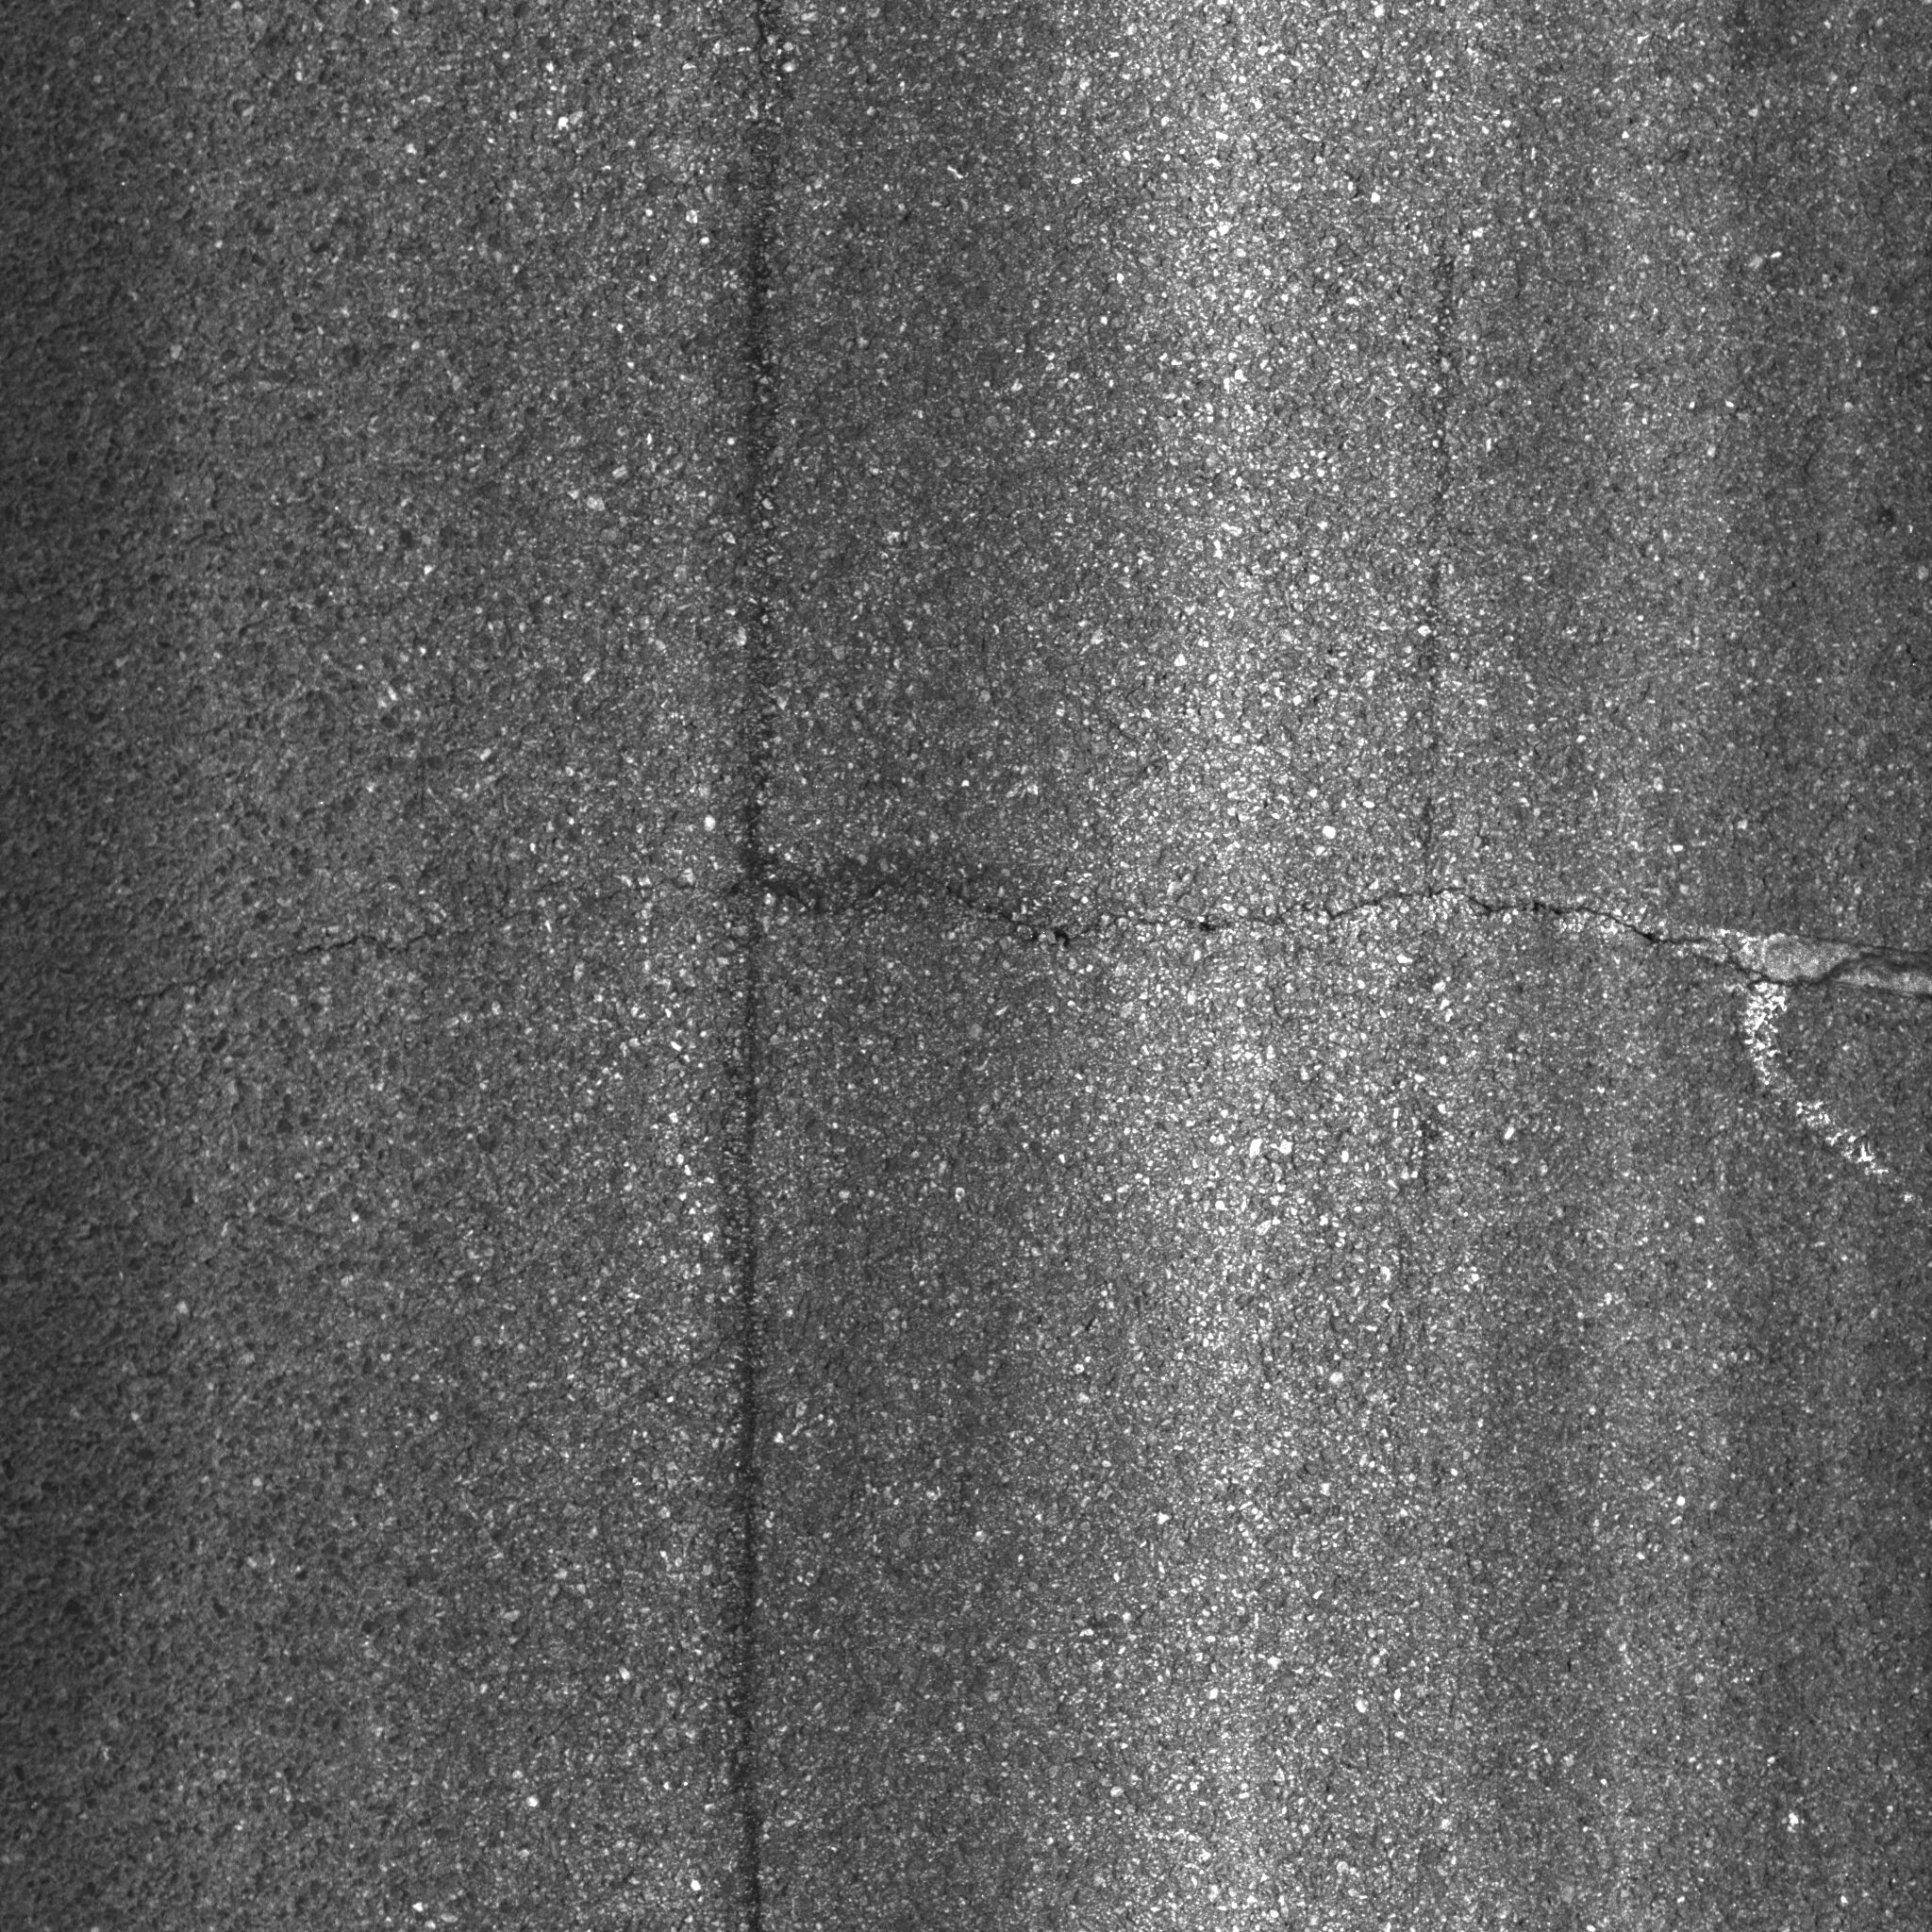transverse: (2, 828, 1932, 1129)
